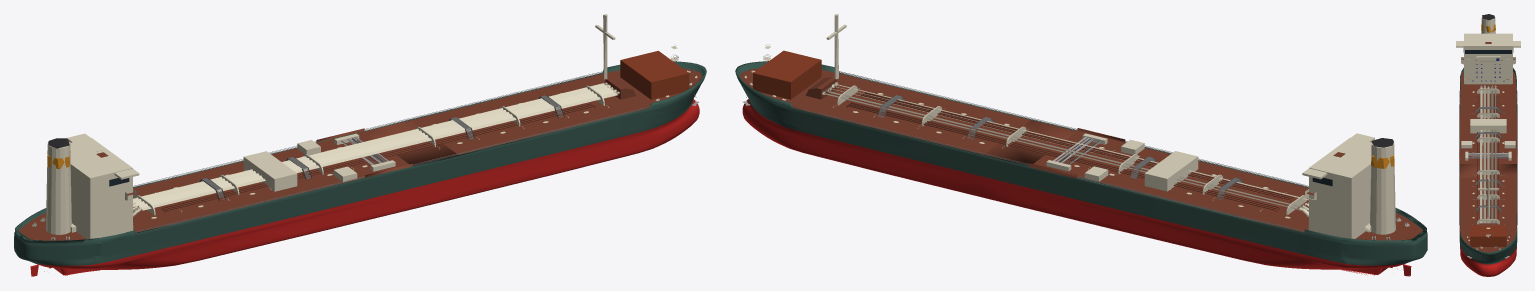
Rendered from fh_battle_e_ship_tanker.glb.
3 renders of one model, left to right at view 1: azimuth 30°, elevation 25°; view 2: azimuth 150°, elevation 25°; view 3: azimuth 270°, elevation 25°, orthographic. The views are drawn at different scales.
Parts seen in each view (by area): view 1: body; view 2: body; view 3: body.
Boxes of the visible parts, x1=… form: body: x1=14, y1=14, x2=706, y2=276; body: x1=735, y1=14, x2=1427, y2=276; body: x1=1456, y1=14, x2=1520, y2=276.
Bounding box in the file's own units: 1 × 0.1828 × 0.1378.
